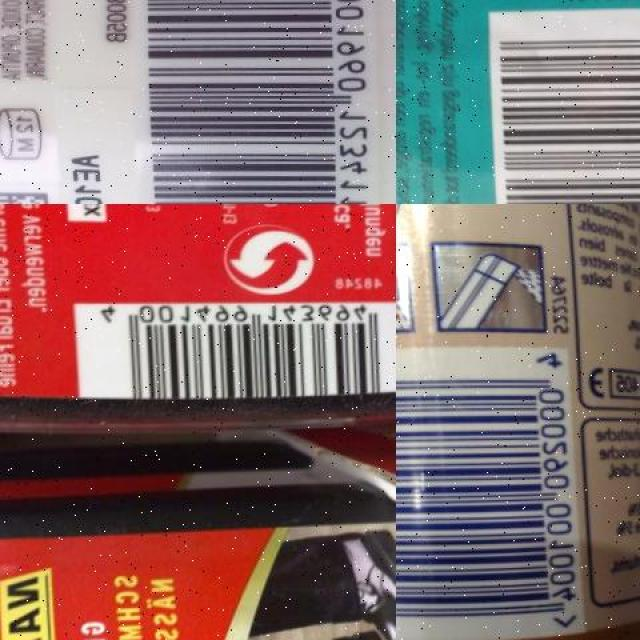Barcode: (395, 346, 577, 640), (127, 0, 380, 204), (67, 299, 396, 400), (480, 7, 640, 204)
